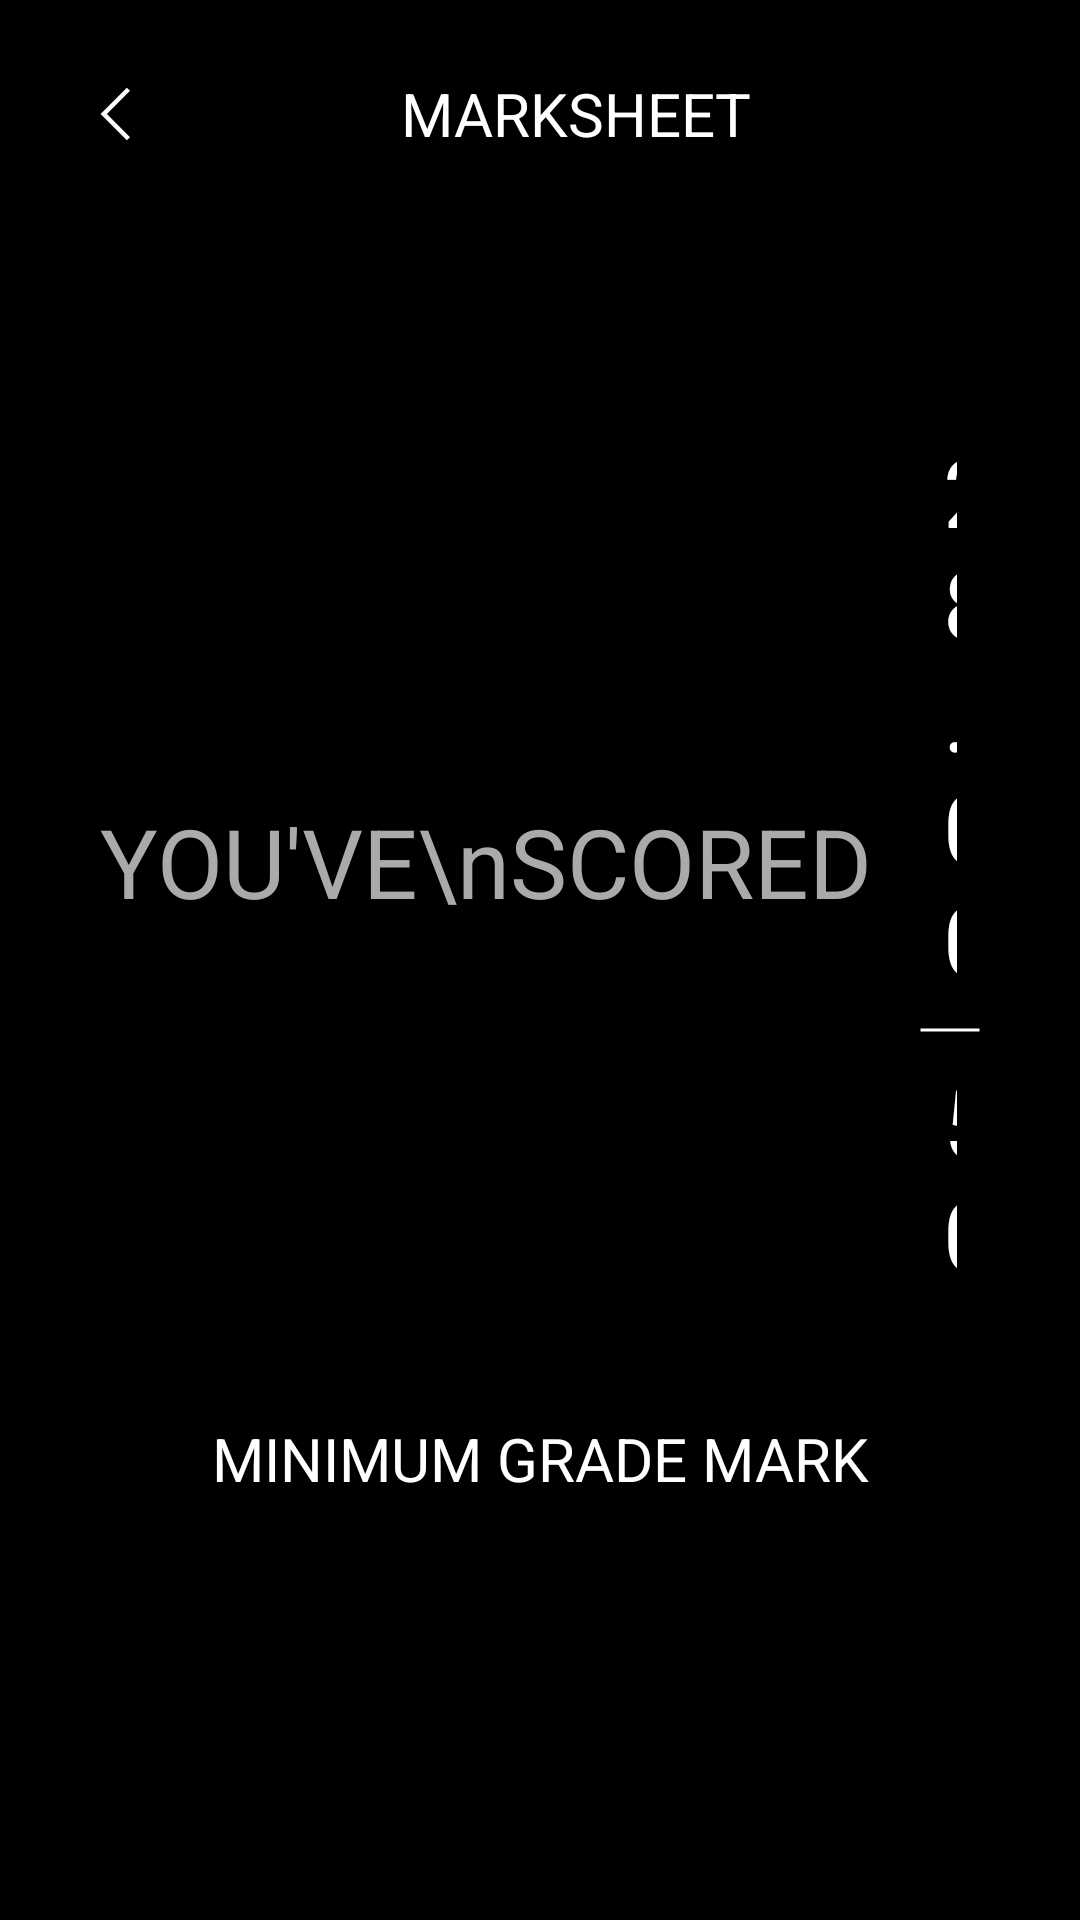

Where to tap for icons on this 1080 x 1920 app screen, as [x,y]:
left: [115,114]
